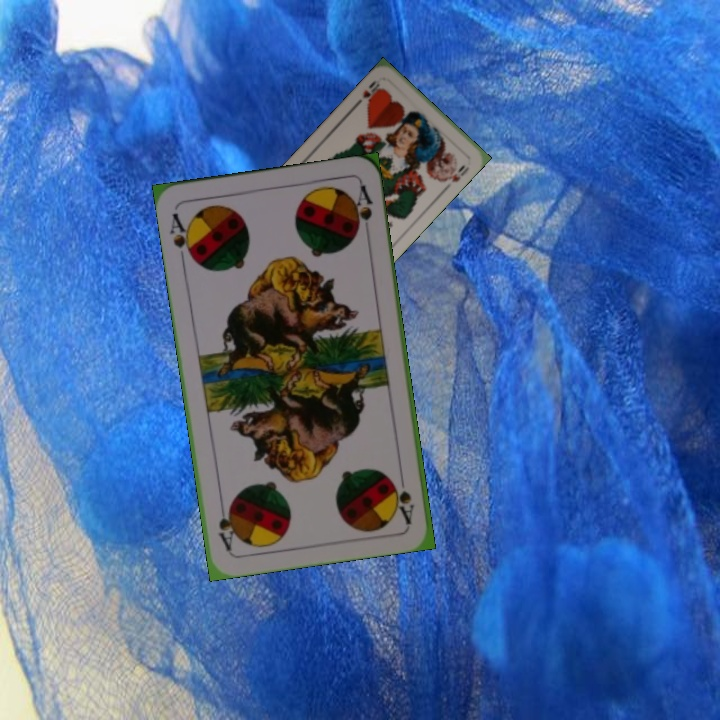HO: (351, 76, 385, 109)
SA: (165, 209, 197, 266), (390, 477, 417, 526)
